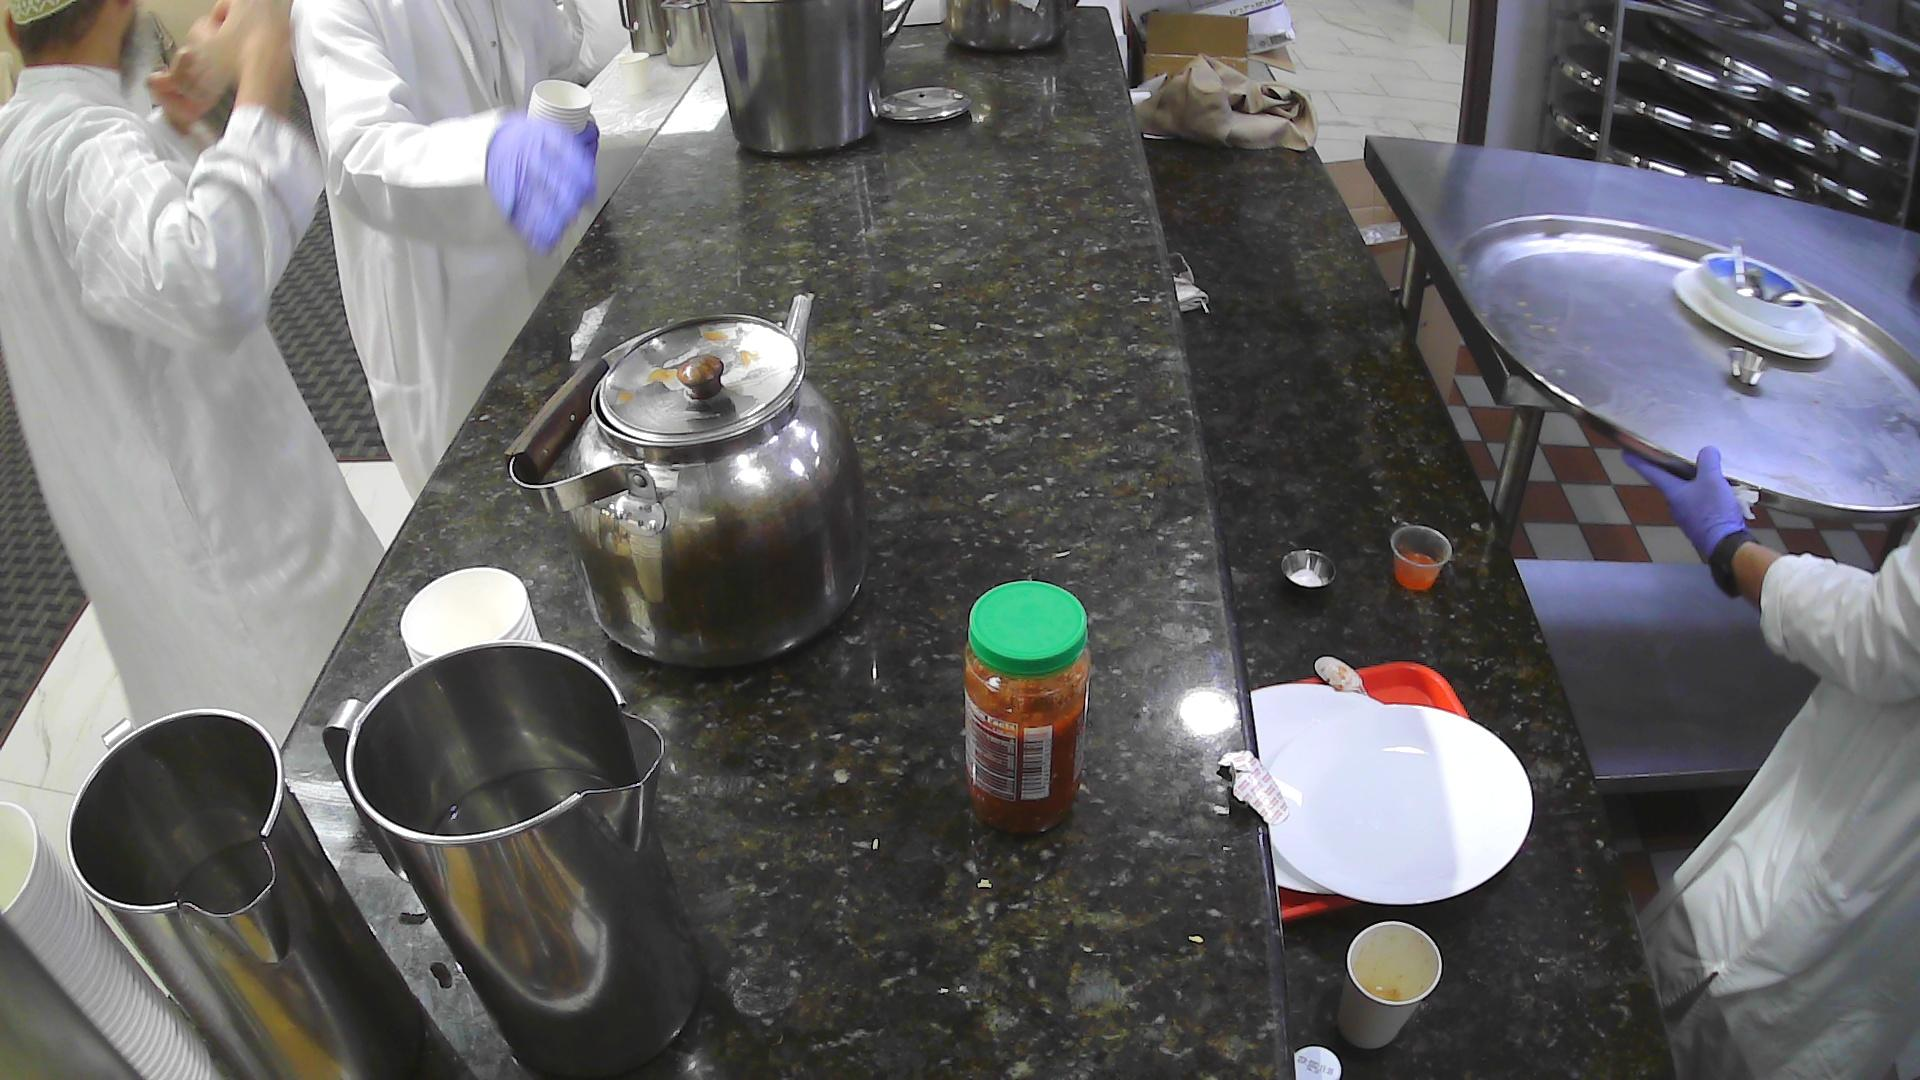thaal: (1448, 210, 1920, 522)
